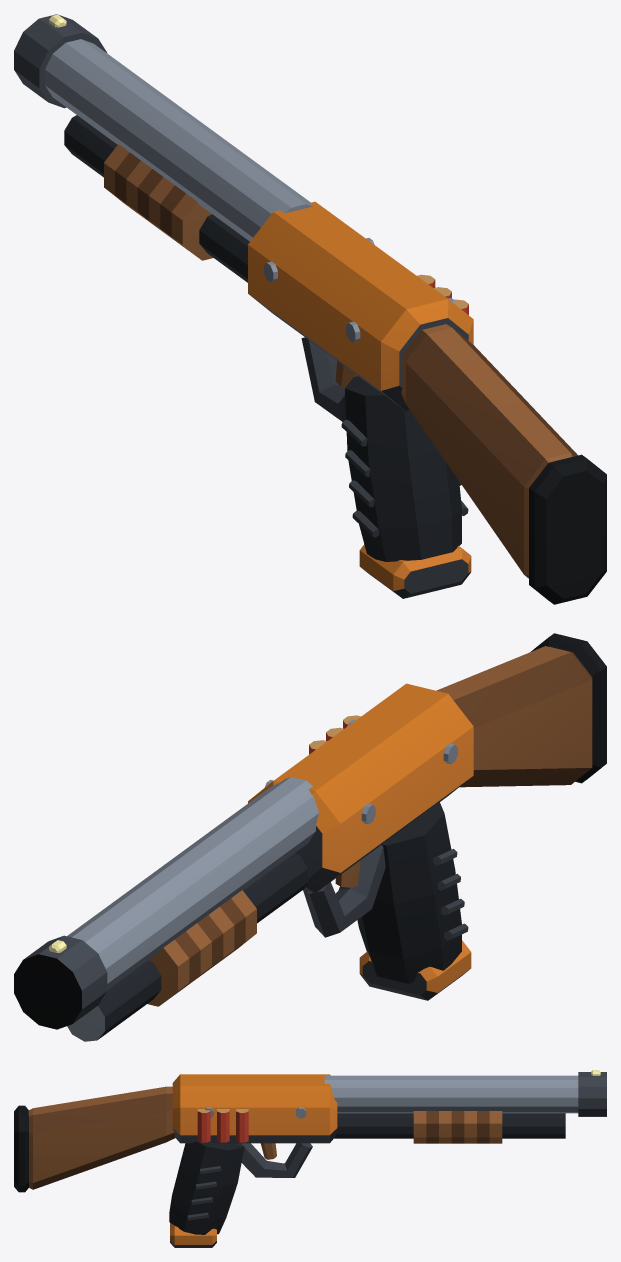
File: Shotgun.fbx
3 views of the same model, one above another, from view 1: azimuth 30°, elevation 25°; view 2: azimuth 150°, elevation 25°; view 3: azimuth 270°, elevation 25° (orthographic). The views are drawn at different scales.
Parts seen in each view (by area): view 1: Receiver, Barrel, Stock, Grip, ButtPad, Pump, TubeMag, GripHeel, Guard, GripRibs; view 2: Barrel, Receiver, Stock, Grip, TubeMag, Pump, Guard, ButtPad, GripHeel, GripRibs, Bolts; view 3: Barrel, Stock, Receiver, Grip, TubeMag, Pump, Guard, Shells, ButtPad, GripHeel, GripRibs.
Boxes of the visible parts, x1,y1,x2,y2 form: Receiver: [248, 201, 473, 411]; Barrel: [14, 14, 312, 241]; Stock: [401, 324, 577, 578]; Grip: [345, 376, 461, 561]; ButtPad: [529, 454, 606, 604]; Pump: [104, 144, 213, 260]; TubeMag: [64, 115, 249, 282]; GripHeel: [359, 544, 471, 598]; Guard: [301, 337, 358, 421]; GripRibs: [341, 419, 468, 537]; Barrel: [14, 777, 318, 1029]; Receiver: [248, 683, 473, 893]; Stock: [436, 646, 592, 787]; Grip: [357, 802, 461, 983]; TubeMag: [67, 853, 308, 1041]; Pump: [147, 890, 256, 1006]; Guard: [303, 842, 385, 937]; ButtPad: [531, 633, 606, 783]; GripHeel: [359, 940, 471, 1000]; GripRibs: [433, 849, 468, 940]; Bolts: [264, 719, 457, 824]; Barrel: [324, 1072, 606, 1116]; Stock: [28, 1086, 174, 1189]; Receiver: [172, 1074, 337, 1143]; Grip: [169, 1141, 244, 1234]; TubeMag: [334, 1113, 565, 1138]; Pump: [413, 1111, 502, 1143]; Guard: [237, 1143, 312, 1177]; Shells: [197, 1109, 248, 1142]; ButtPad: [14, 1105, 28, 1192]; GripHeel: [170, 1223, 216, 1247]; GripRibs: [187, 1166, 221, 1220].
Size of the model in its own units: 0.1147 by 0.294 by 0.935.
1 material, 1 textured.
